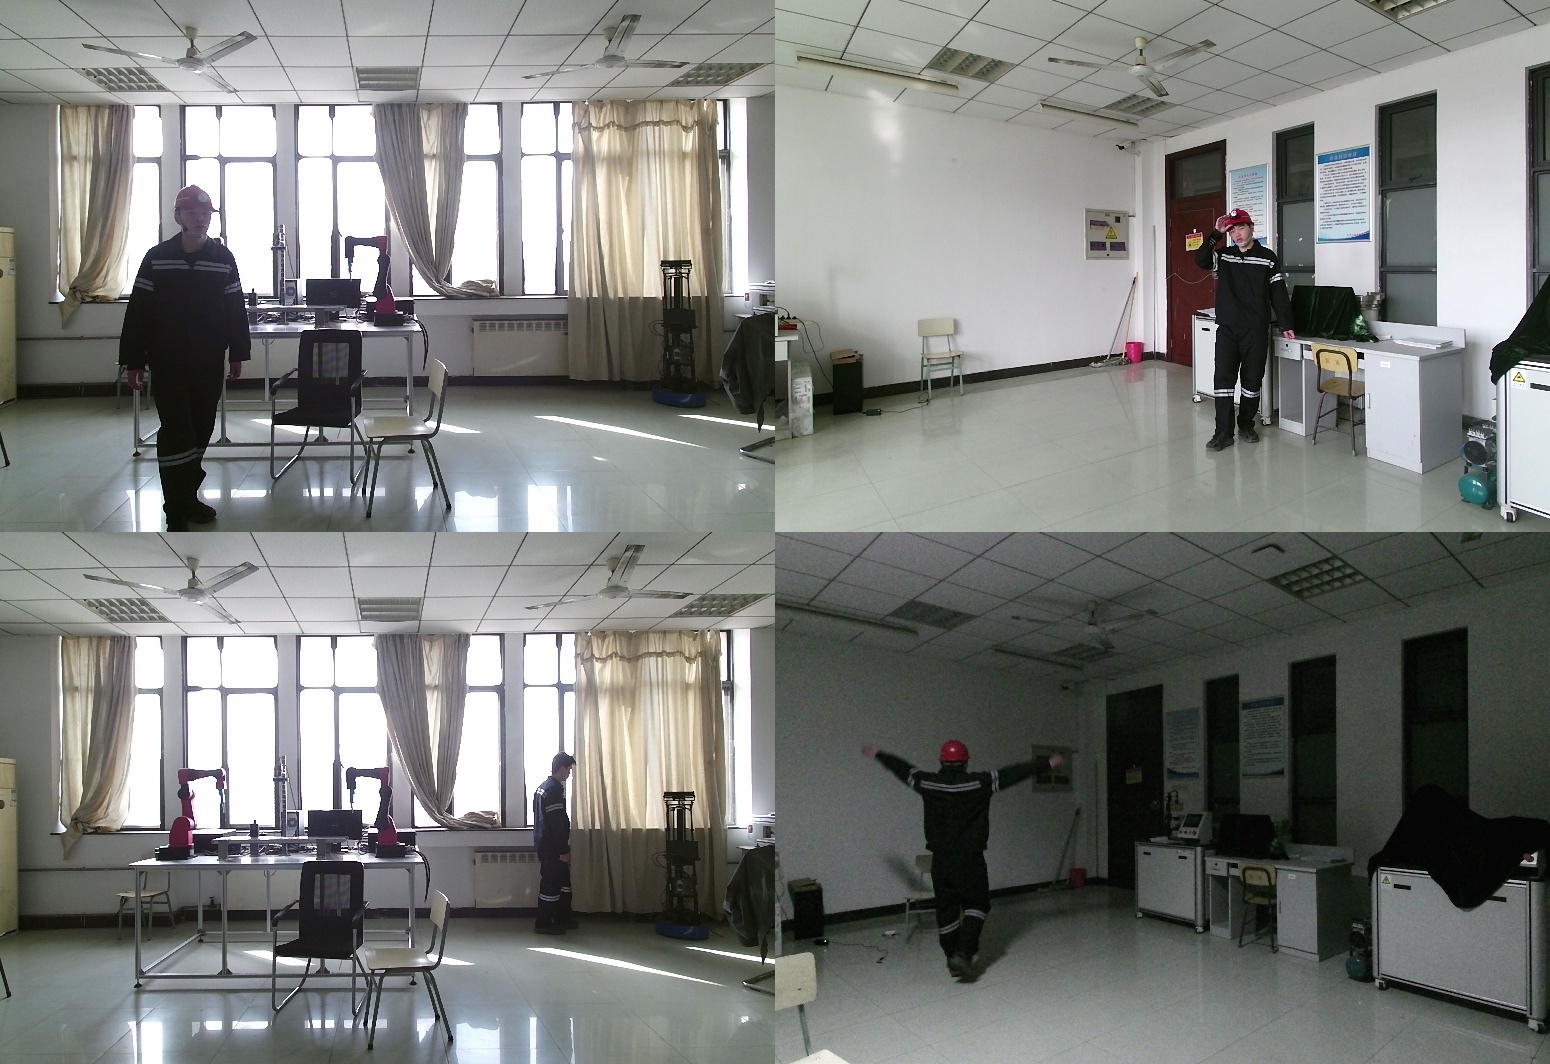person: (857, 741, 1069, 987), (121, 187, 251, 532), (1198, 209, 1300, 453), (535, 758, 602, 941)
